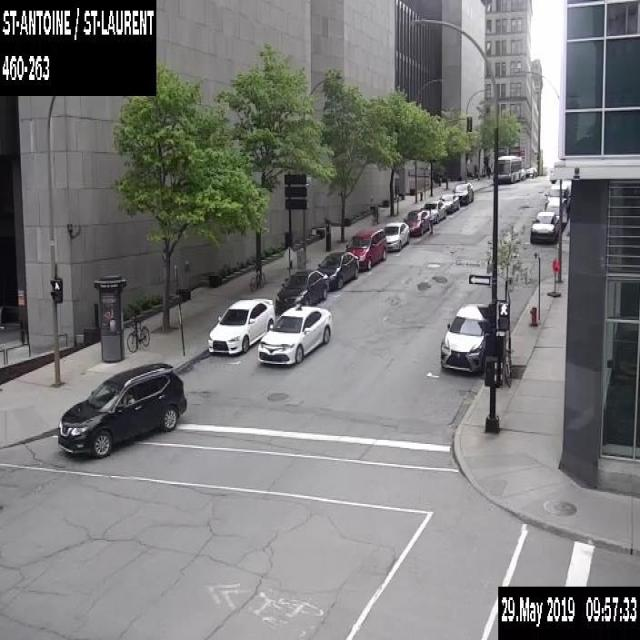bus: (496, 154, 521, 183)
construction: (546, 258, 561, 297), (283, 246, 295, 280)
pedestrian: (427, 207, 434, 233), (486, 165, 490, 178)
vehicle: (56, 359, 186, 460), (256, 302, 332, 363), (207, 296, 275, 352), (439, 300, 489, 375), (274, 268, 328, 312), (345, 227, 386, 269), (316, 250, 358, 288), (529, 210, 559, 243), (383, 220, 409, 250), (402, 209, 428, 234), (544, 184, 570, 208), (421, 198, 446, 222), (545, 200, 567, 222), (452, 181, 473, 204), (439, 192, 459, 212), (526, 166, 536, 177), (521, 168, 525, 179)
